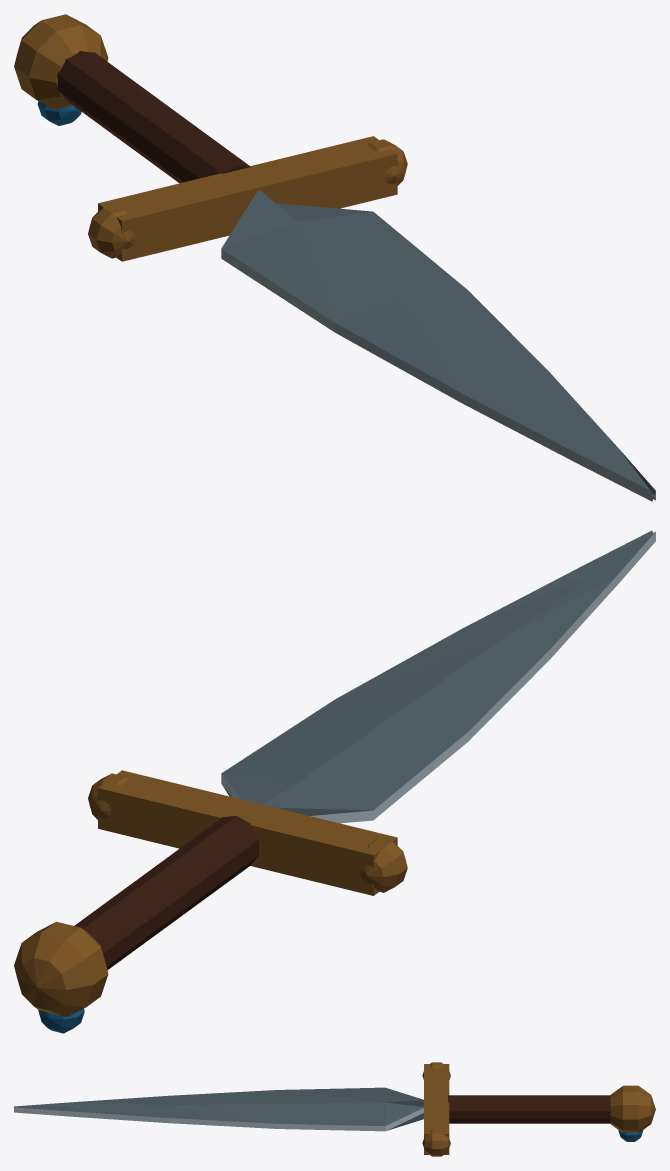
File: SM_Weapon_Dagger_A.obj
The picture shows the model from 3 angles, top to bottom: view 1: azimuth 30°, elevation 25°; view 2: azimuth 150°, elevation 25°; view 3: azimuth 270°, elevation 25°; orthographic projection. The views are drawn at different scales.
Visible parts, largest first — view 1: SM_Weapon_Dagger_A; view 2: SM_Weapon_Dagger_A; view 3: SM_Weapon_Dagger_A.
Part boxes in pixels (x1,y1,x2,y2): SM_Weapon_Dagger_A: [14, 14, 655, 501]; SM_Weapon_Dagger_A: [14, 530, 655, 1033]; SM_Weapon_Dagger_A: [14, 1062, 655, 1156].
Size of the model in its own units: 32.76 by 9.97 by 112.
